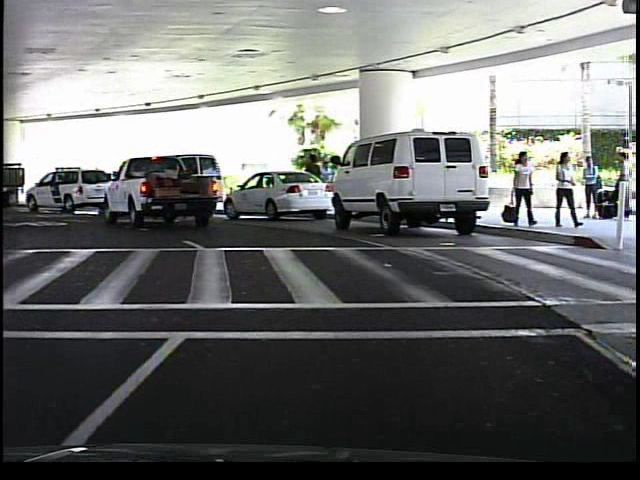person: (508, 147, 538, 229), (554, 151, 582, 234), (578, 154, 605, 225), (611, 150, 634, 221), (303, 150, 326, 212)
